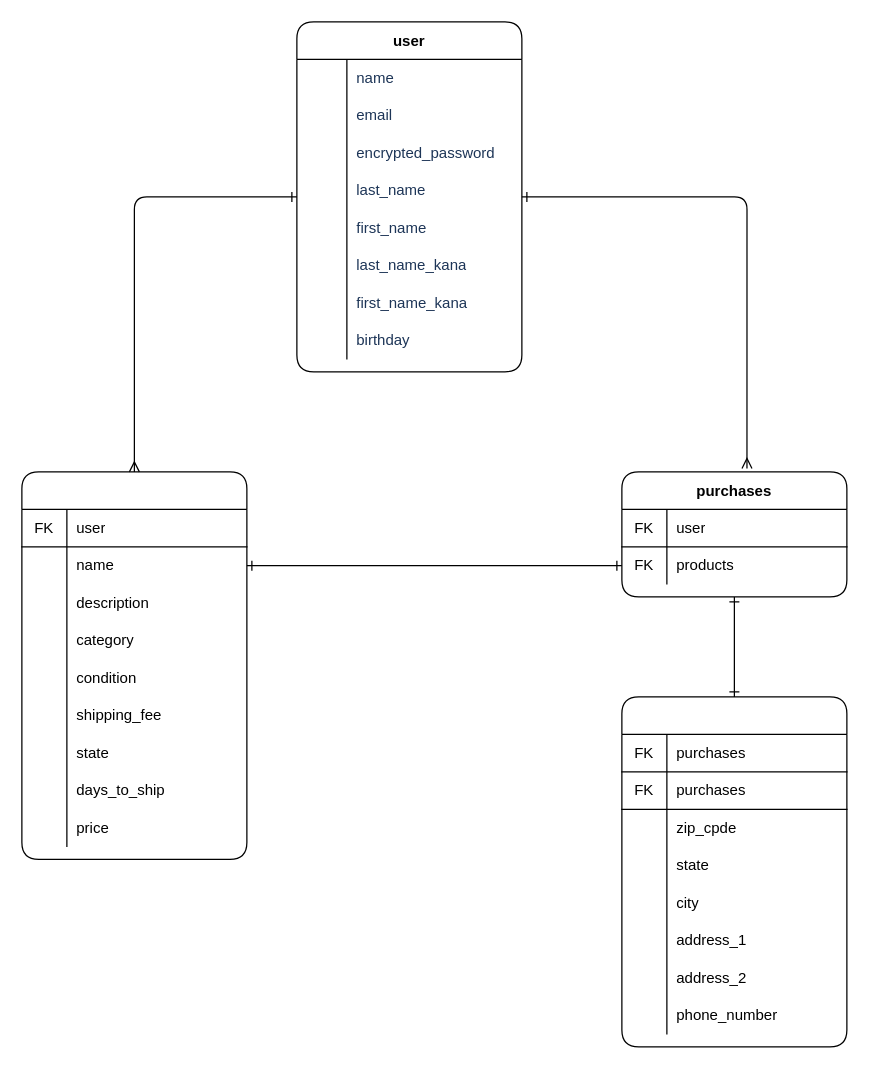
The diagram is 869 pixels wide and 1069 high, and some of its shapes have lost their labels. Here are the shapes that lost their labels. From the top down, the box of each, then its label:
(21, 471, 247, 859): items
(621, 696, 847, 1047): shipping_address
